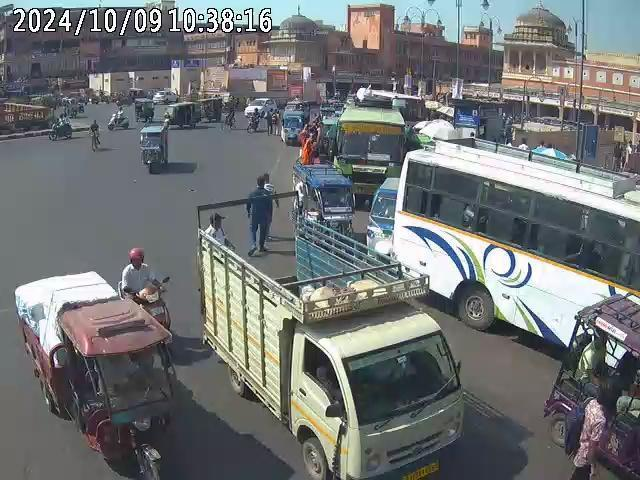auto: (542, 290, 639, 476), (292, 161, 355, 238), (139, 120, 172, 174), (281, 100, 315, 145)
bus: (388, 132, 640, 361), (334, 101, 407, 200)
car: (283, 313, 467, 479)
helmet: (128, 247, 146, 268)
lorry: (195, 216, 462, 480), (13, 268, 180, 475)
motorbike-rider: (48, 115, 73, 141)
person: (579, 390, 611, 479), (244, 172, 277, 254), (203, 211, 227, 250), (300, 127, 320, 166), (531, 139, 555, 160), (89, 124, 101, 151), (515, 135, 530, 152)
scooty-rider: (120, 245, 176, 328), (108, 109, 129, 130)
